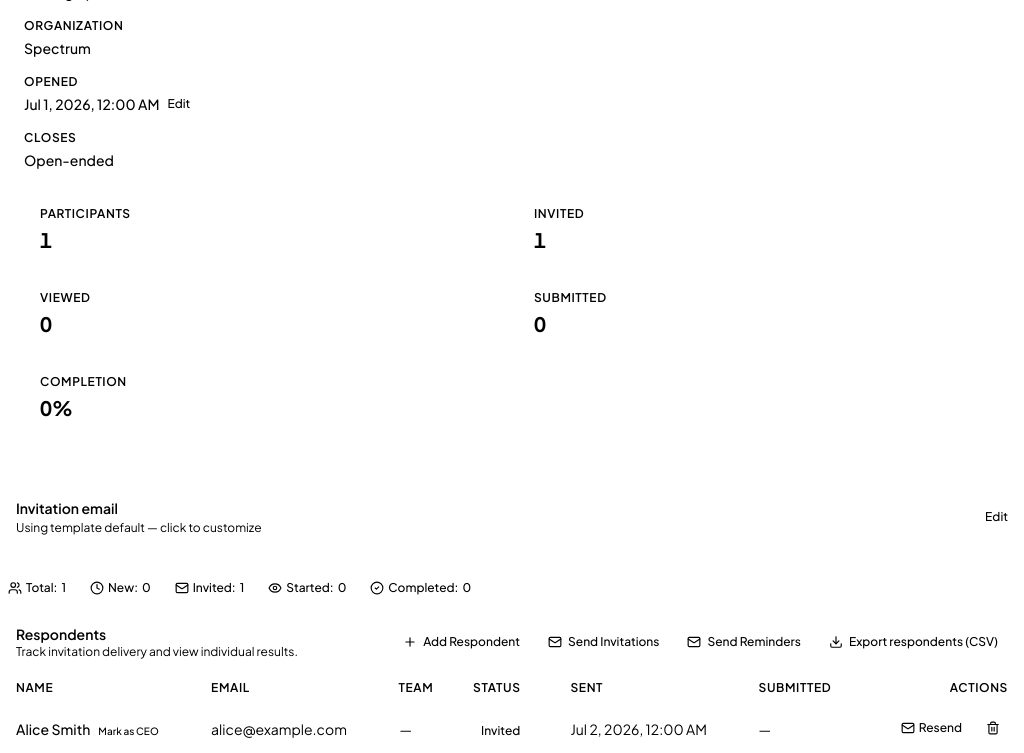
Test: CampaignDetail — respondent removal (CHI-35 / Jeff #59) › treats an empty 204 as success, refreshes respondents, and never shows the false-error toast
The width and height of the screenshot is (1024, 753).
(page scrolled)
Click the button named "Remove Alice Smith" at (993, 728), box left=978, top=717, right=1008, bottom=739
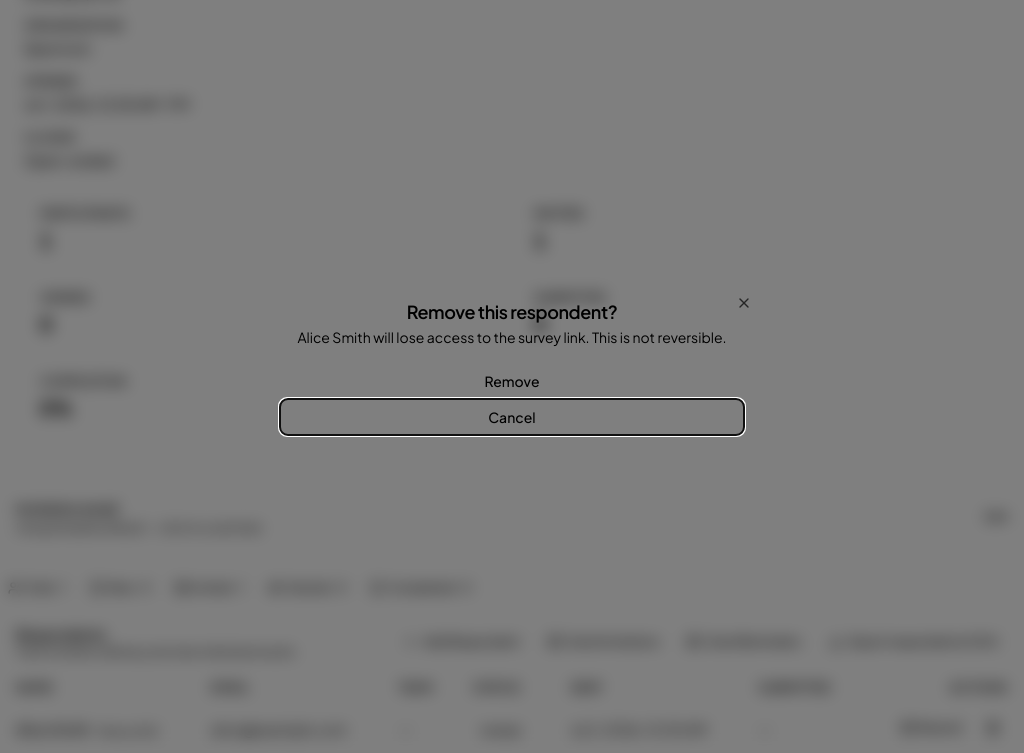
Click the button with test id "remove-respondent-confirm" at (512, 381), box left=280, top=363, right=744, bottom=399
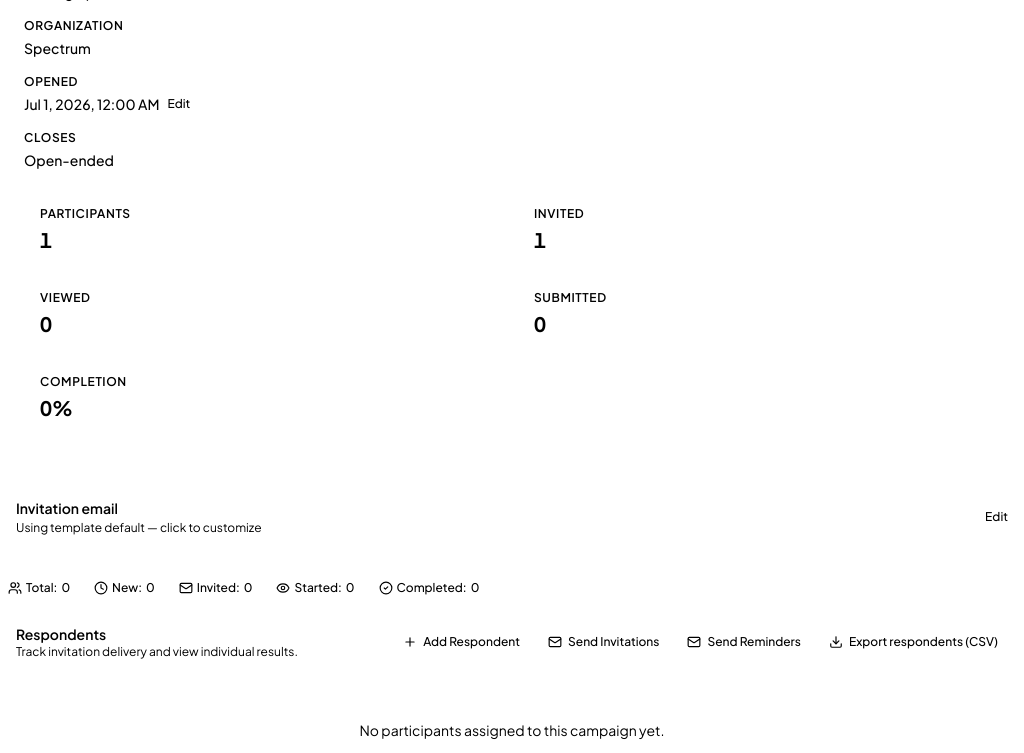
Check: the dialog with test id "remove-respondent-dialog" is gone
